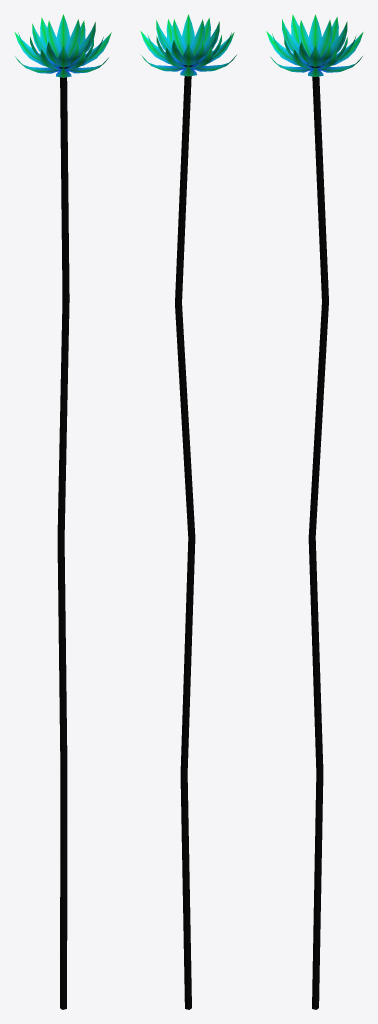
File: WaterLily_Flower_A1_02.fbx
The picture shows the model from 3 angles, left to right: view 1: azimuth 30°, elevation 25°; view 2: azimuth 150°, elevation 25°; view 3: azimuth 330°, elevation 25°; orthographic projection.
Visible parts, largest first — view 1: WaterLily_Flower_A1_02_LOD0; view 2: WaterLily_Flower_A1_02_LOD0; view 3: WaterLily_Flower_A1_02_LOD0.
Boxes of the visible parts, <box> form: WaterLily_Flower_A1_02_LOD0: <box>14,14,111,1009</box>; WaterLily_Flower_A1_02_LOD0: <box>140,14,236,1009</box>; WaterLily_Flower_A1_02_LOD0: <box>266,14,363,1009</box>.
Size of what is drawn, in the model's own units: 0.4351 by 4.17 by 0.3684.
